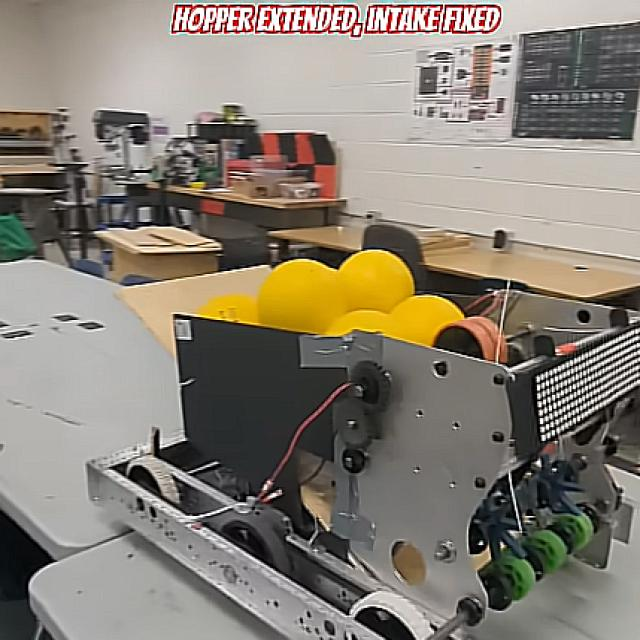Fuel: (256, 259, 344, 334), (258, 260, 346, 334), (337, 249, 414, 315), (339, 250, 413, 312), (388, 295, 463, 347), (389, 296, 464, 346), (326, 309, 390, 336), (196, 294, 255, 323), (326, 309, 390, 334)
